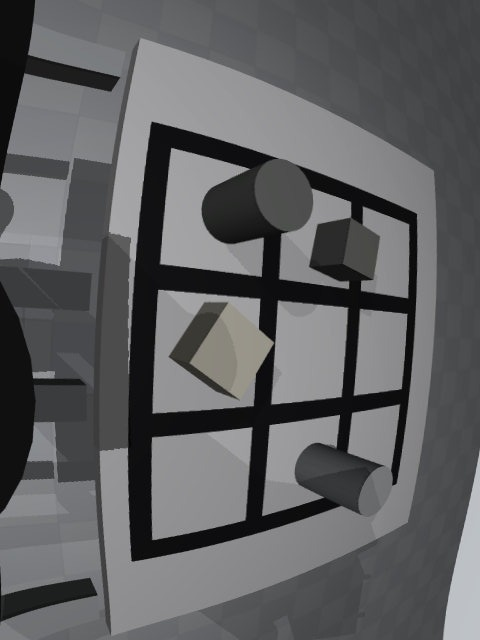can: (295, 443, 393, 517)
cube: (309, 217, 380, 282)
cylinder: (202, 159, 313, 244)
foam: (169, 303, 274, 400)
